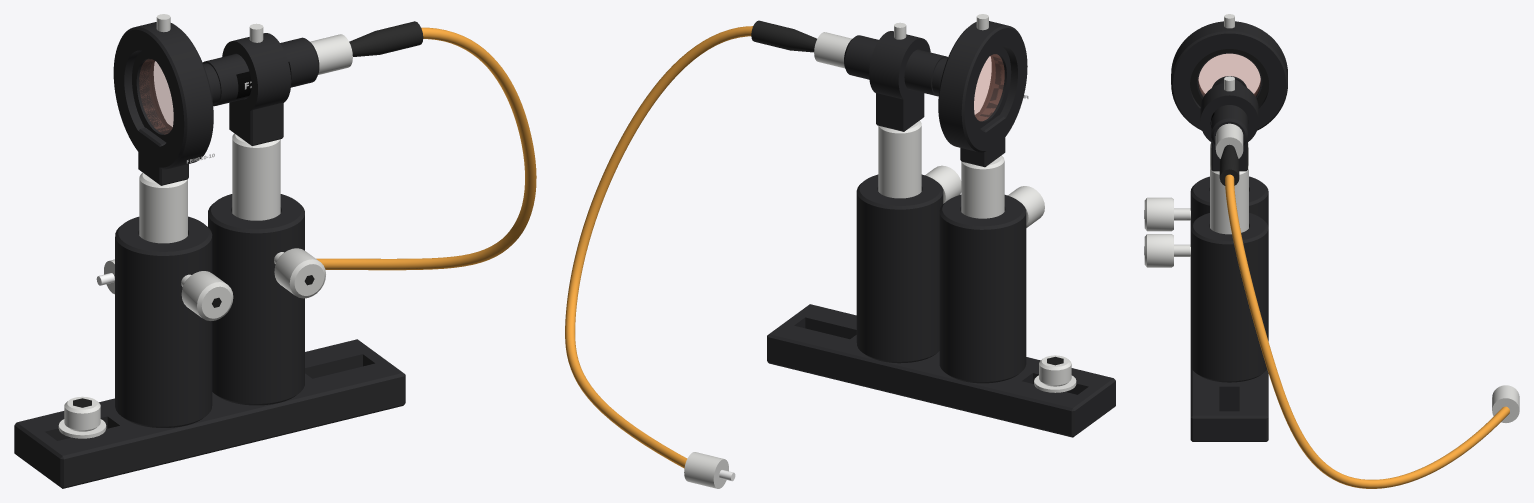
Rendered from fibre_collimator.glb.
3 renders of one model, left to right at view 1: azimuth 30°, elevation 25°; view 2: azimuth 150°, elevation 25°; view 3: azimuth 270°, elevation 25°, orthographic. The views are drawn at different scales.
Visible parts, largest first — view 1: Body, Optic; view 2: Body, Optic; view 3: Body, Optic.
Boxes of the visible parts, x1,y1,x2,y2 form: Body: [14, 14, 536, 488]; Optic: [132, 51, 173, 142]; Body: [565, 14, 1115, 488]; Optic: [974, 47, 1011, 128]; Body: [1144, 14, 1519, 488]; Optic: [1196, 52, 1262, 98].
Bounding box in the file's own units: 0.162 × 0.1246 × 0.1223.
Materials: 11 (2 with a texture image).
